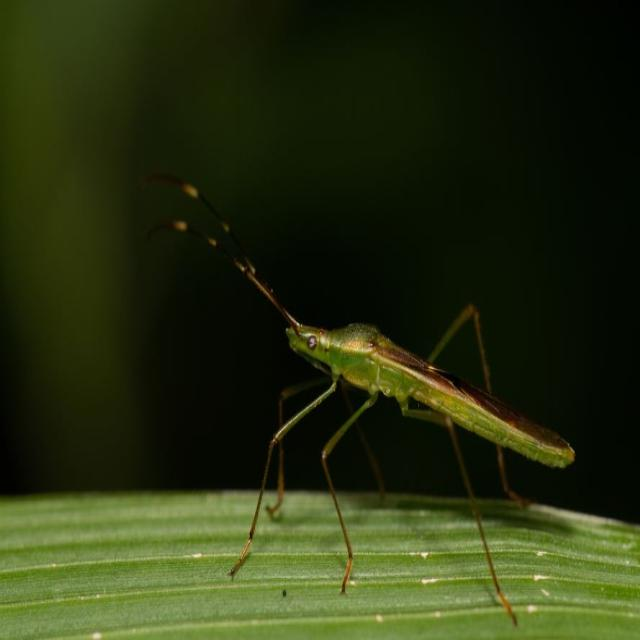walang sangit pada tanaman padi: (142, 169, 576, 627)
